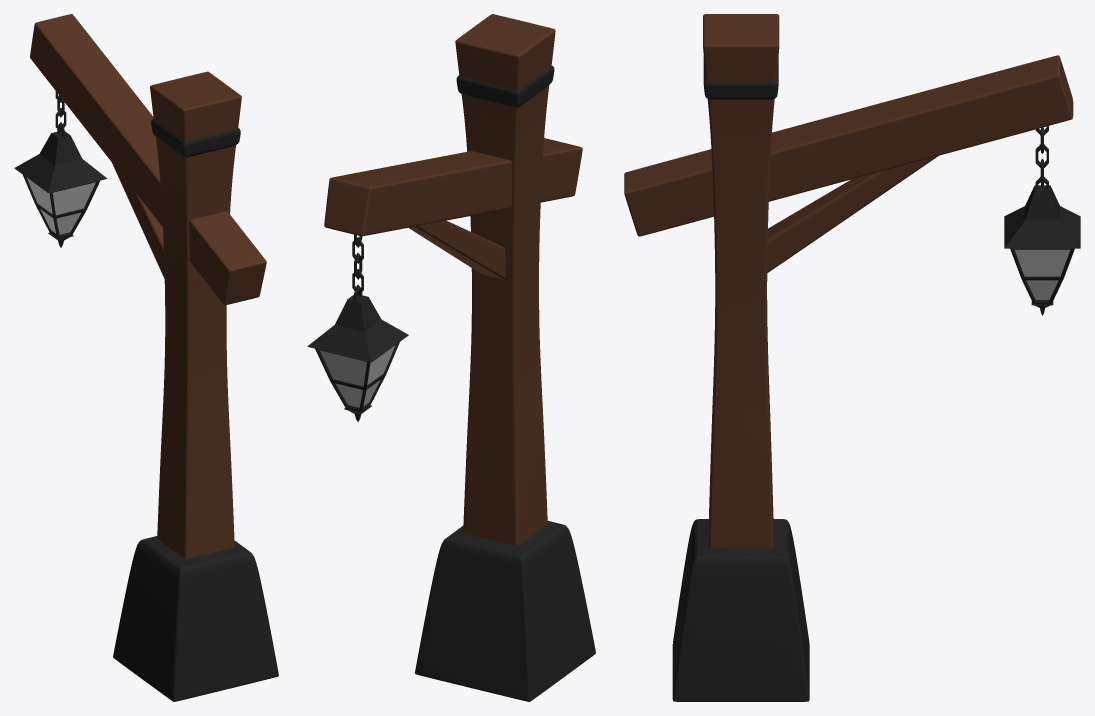
Rendered from Wooden Lantern.obj.
3 renders of one model, left to right at view 1: azimuth 30°, elevation 25°; view 2: azimuth 150°, elevation 25°; view 3: azimuth 270°, elevation 25°, orthographic. The views are drawn at different scales.
Parts seen in each view (by area): view 1: Lamp; view 2: Lamp; view 3: Lamp.
Part boxes in pixels (x1,y1,x2,y2): Lamp: (14, 14, 278, 701); Lamp: (307, 14, 595, 701); Lamp: (624, 14, 1080, 701).
Size of the model in its own units: 2.1 by 10.91 by 7.
